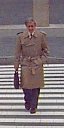person: (12, 21, 45, 111)
